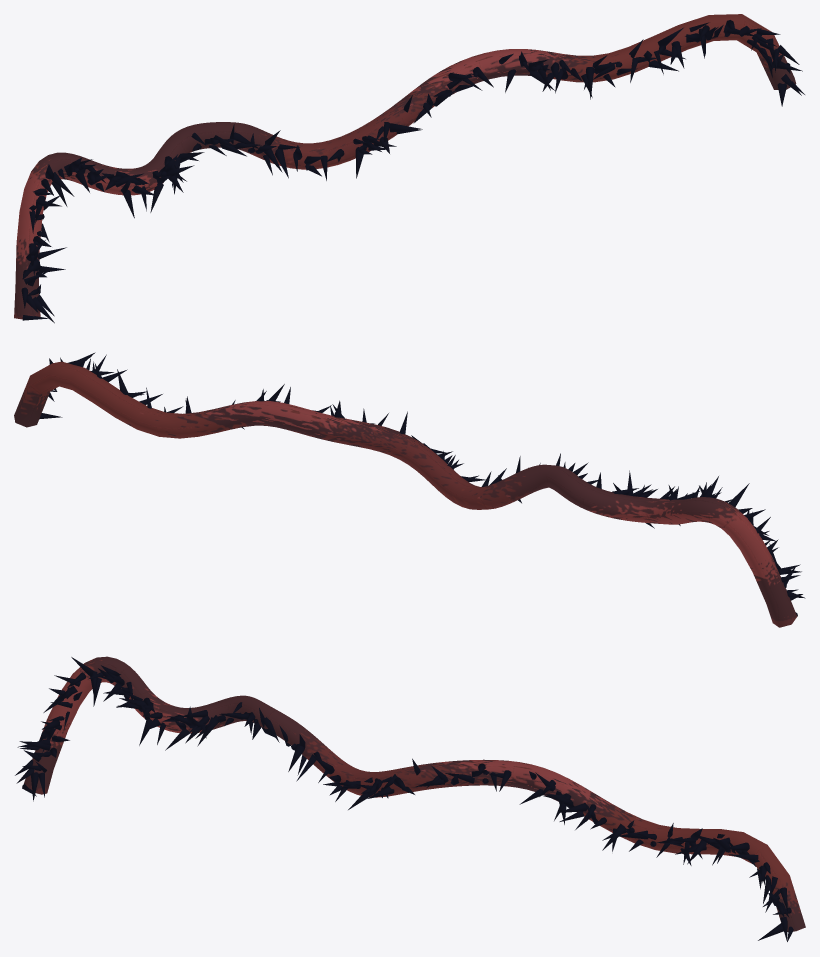
File: Small-root-asset.glb
The picture shows the model from 3 angles, top to bottom: view 1: azimuth 30°, elevation 25°; view 2: azimuth 150°, elevation 25°; view 3: azimuth 330°, elevation 25°; orthographic projection. The views are drawn at different scales.
Visible parts, largest first — view 1: NurbsPath; view 2: NurbsPath; view 3: NurbsPath.
Part boxes in pixels (x1,y1,x2,y2): NurbsPath: (14,14,804,323); NurbsPath: (14,352,805,627); NurbsPath: (15,656,805,941).
Bounding box in the file's own units: 328 × 56.84 × 39.06.
Materials: 2 (2 with a texture image).
